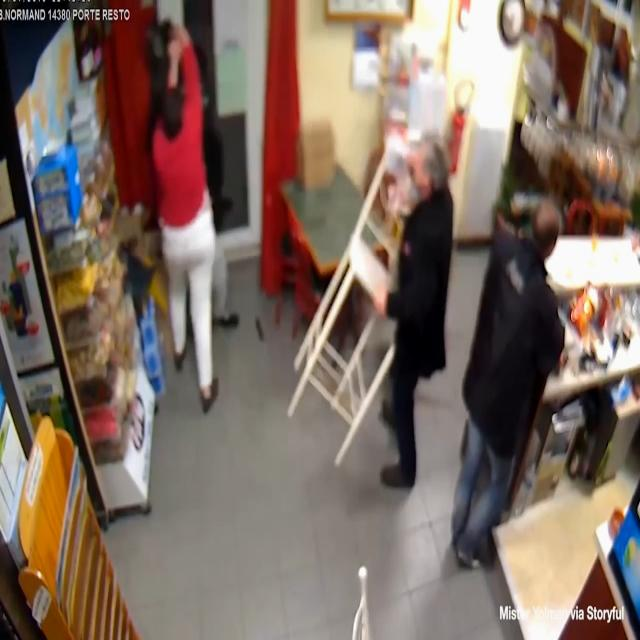fight: (112, 1, 265, 386)
